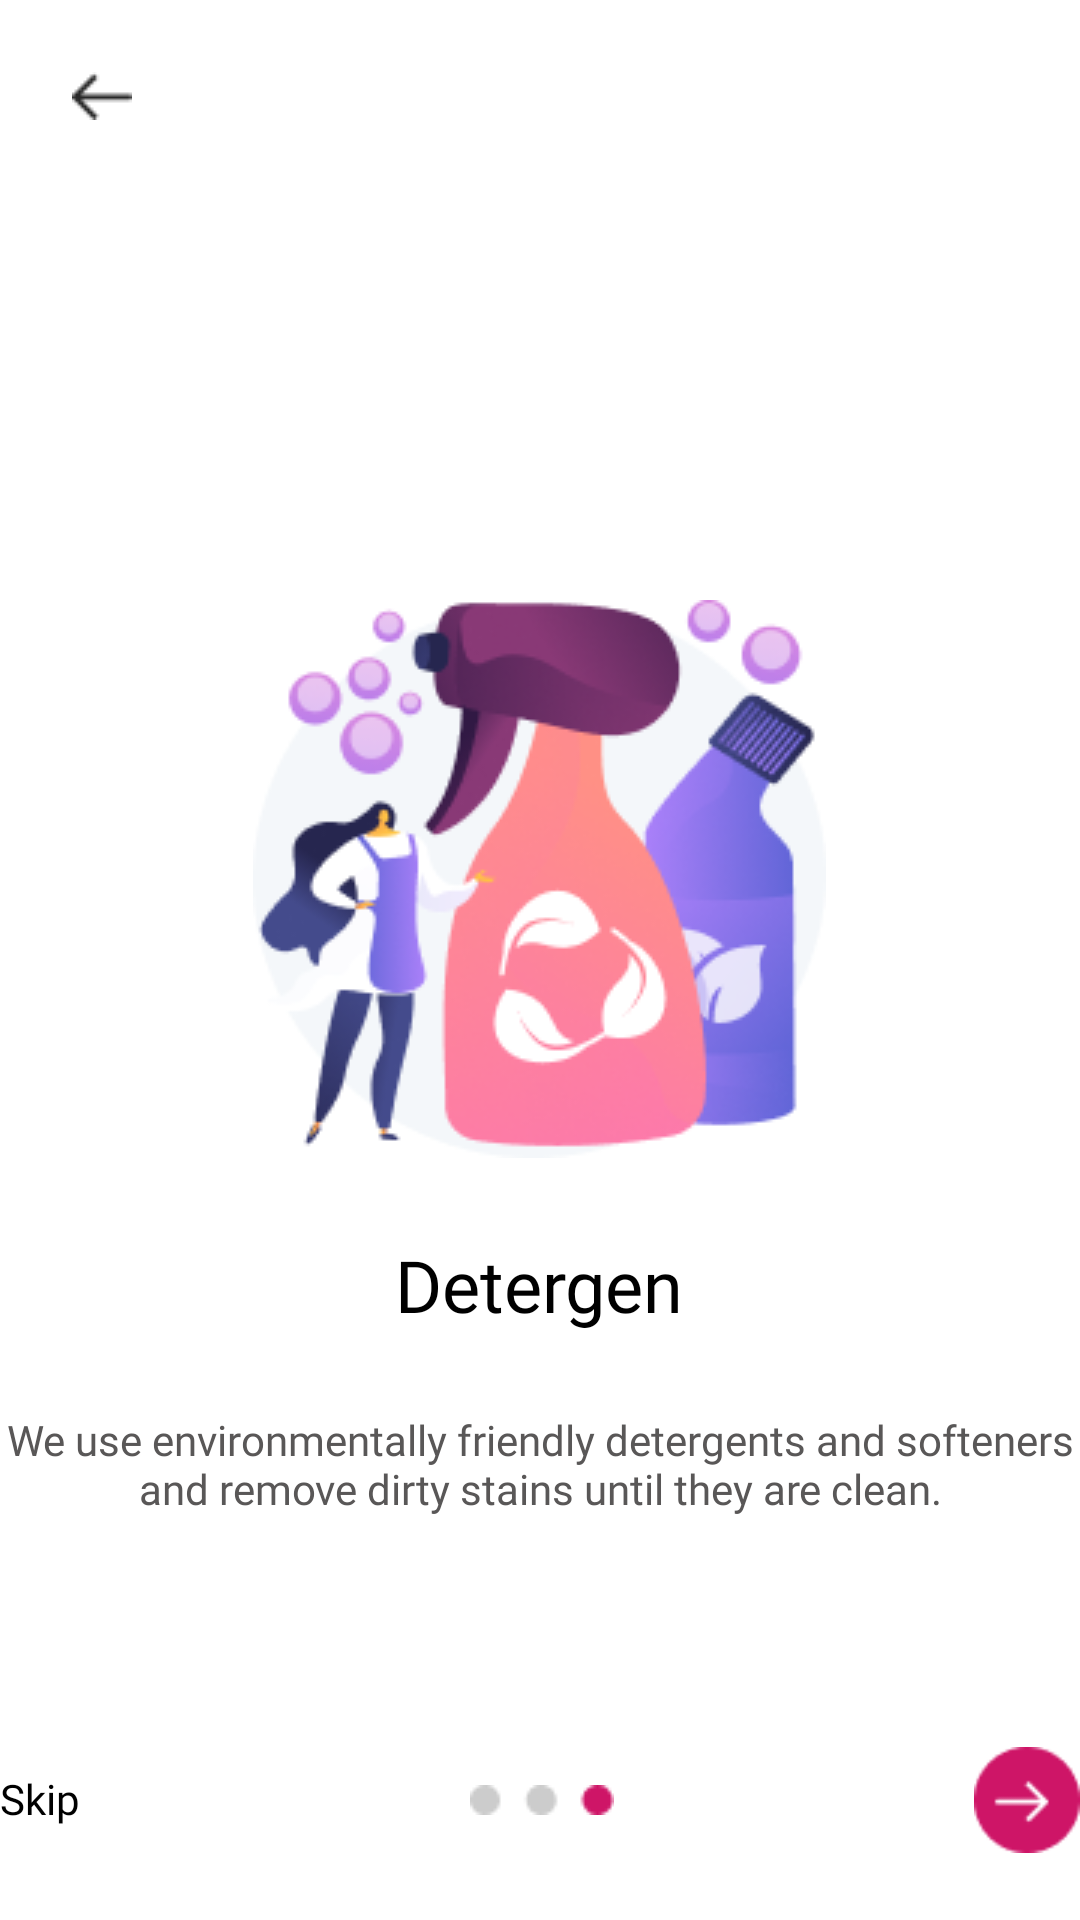

Point at icon controls on the screen. Image size 1080 × 1920, points as (x=x, y=y).
back: (x=102, y=97)
btnnext: (x=1027, y=1800)
dot: (x=542, y=1800)
